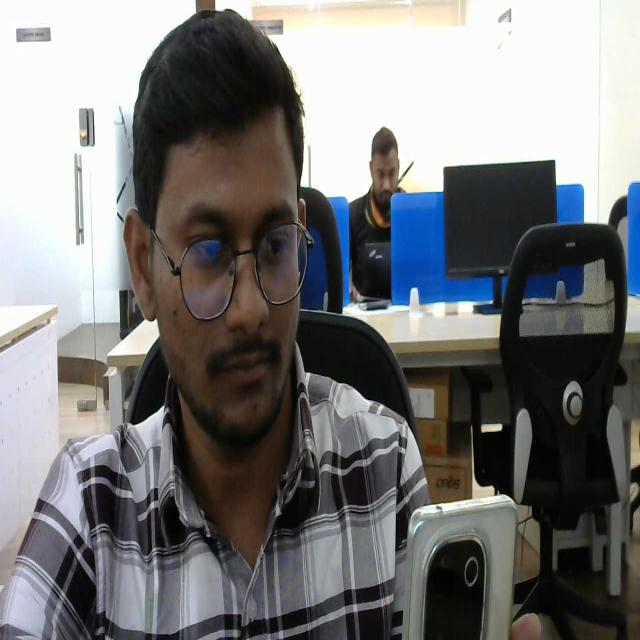phone: (403, 491, 519, 640)
